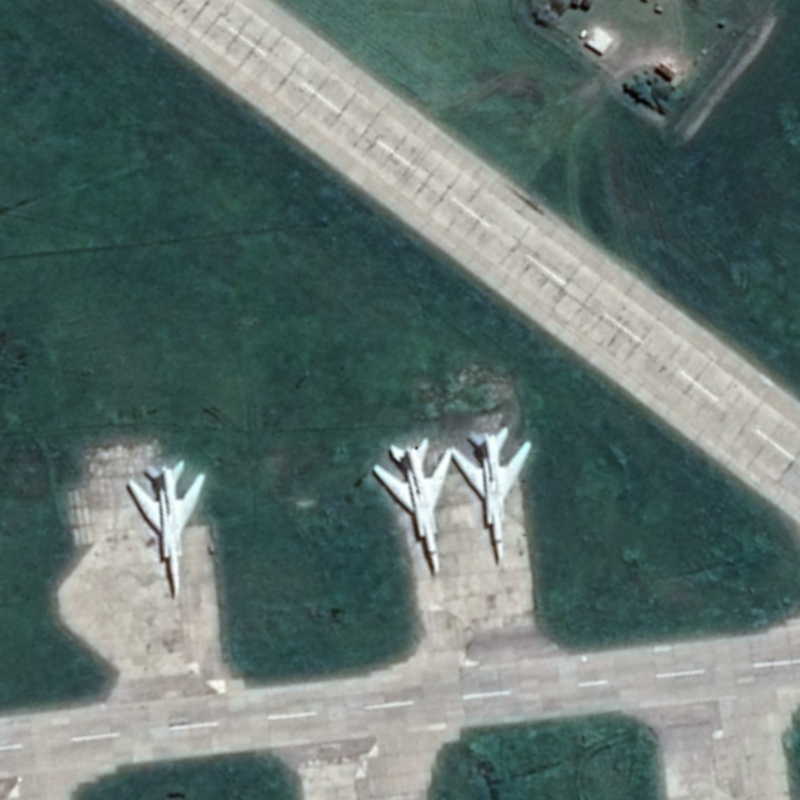A12: (449, 423, 535, 565), (370, 435, 454, 577), (125, 457, 208, 600)
